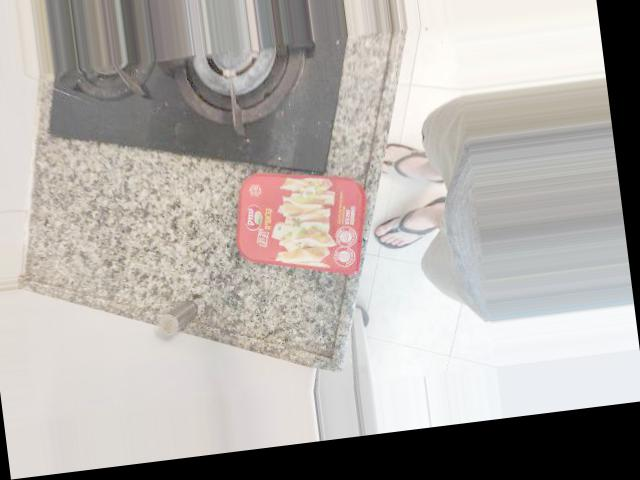cheese: (85, 153, 261, 286)
